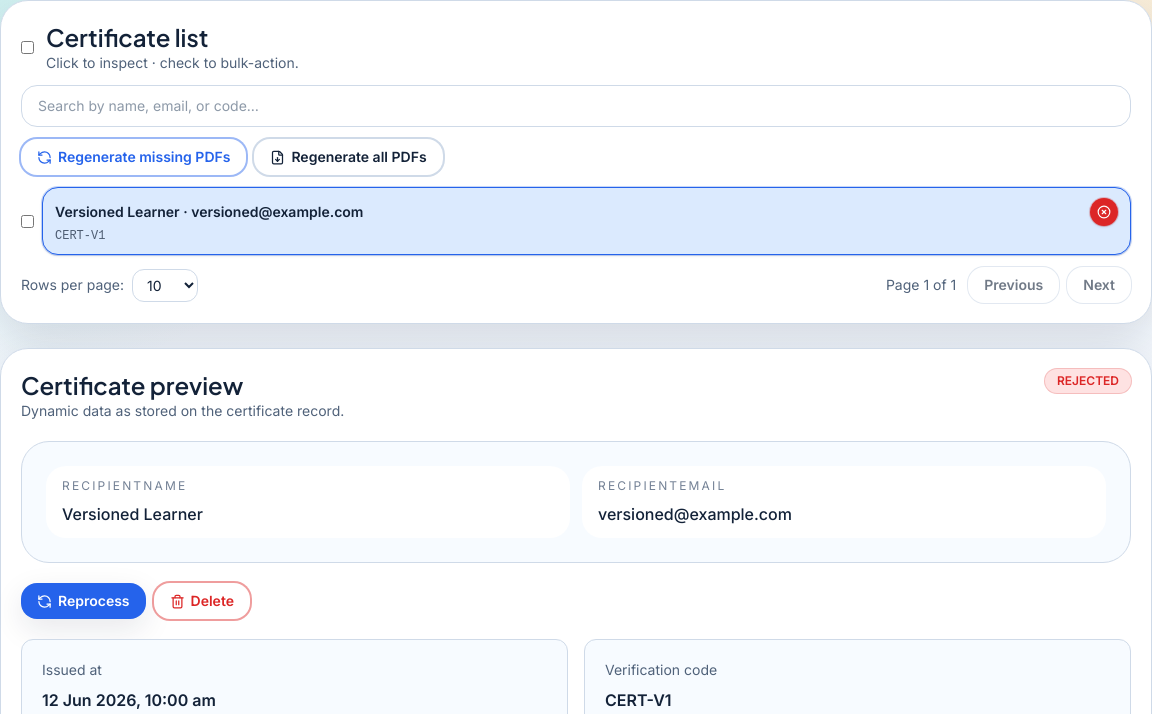
batch certificate versioning actions › selects and announces the new pending version returned by reprocess
What coordinates should you click on to do the following:
click the button "Reprocess"
I would click on:
 (83, 601)
Its box is left=21, top=583, right=146, bottom=619.
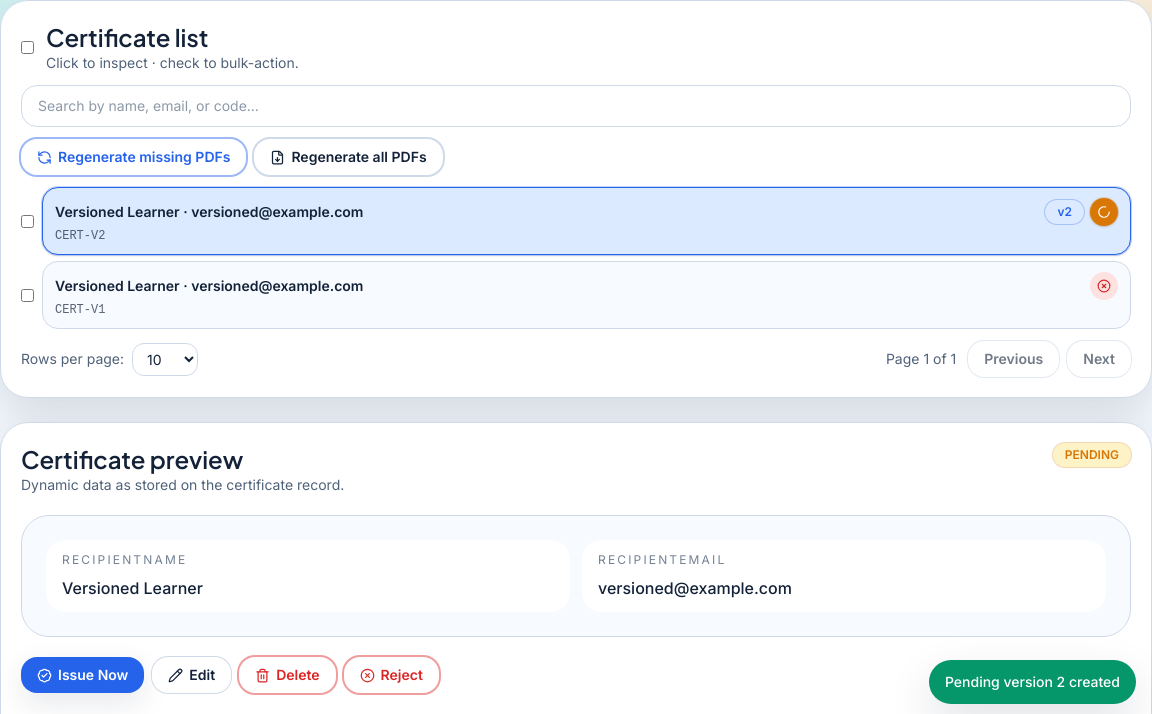
expect the text "Pending version 2 created" is shown: met, box left=929, top=660, right=1136, bottom=704
expect the text "v2" is shown: met, box left=1046, top=200, right=1084, bottom=224
expect the button "Issue Now" is enabled: met, box left=21, top=657, right=144, bottom=693
